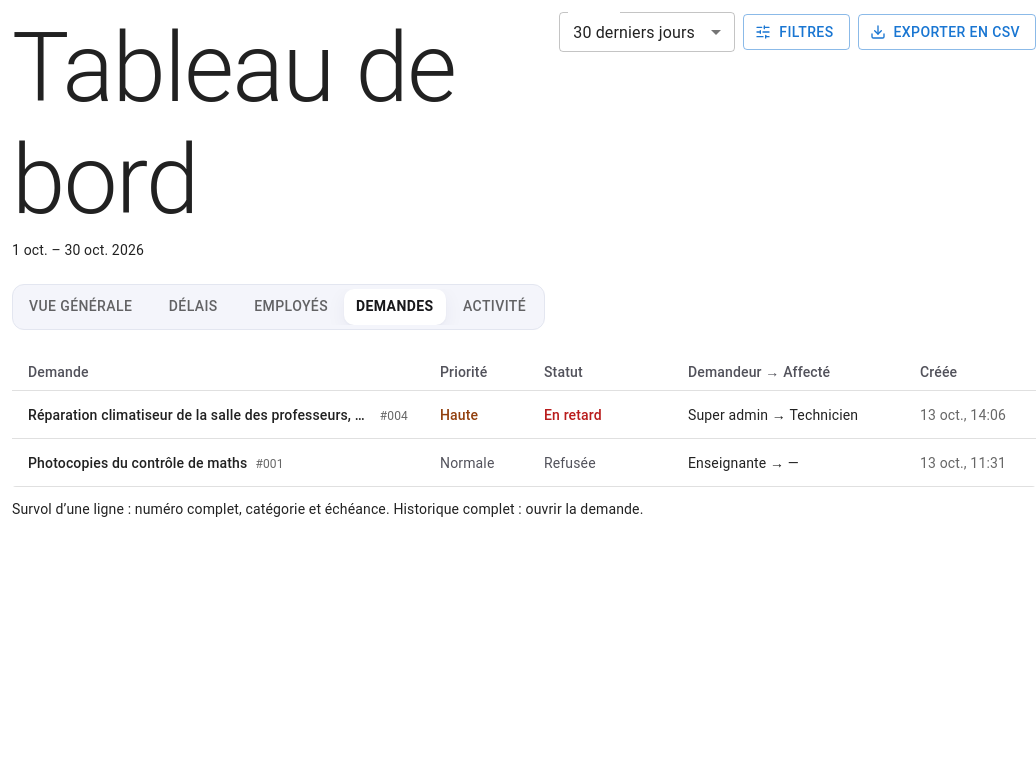
Test case: Paramètres du tableau de bord › vue Demandes : 5 colonnes, numéro court, retard et urgence en rouge, détails au survol
expect the number of column headings is 5: met, box [12,354,424,391]; [424,354,528,391]; [528,354,672,391]; [672,354,904,391]; [904,354,1035,391]
expect the column heading "Demande" is shown: met, box [12,354,424,391]
Note: Survol (ou focus) : numéro complet, catégorie et échéance.
Hover over the link "Réparation climatiseur" at x=200, y=414, box [28,404,372,424]
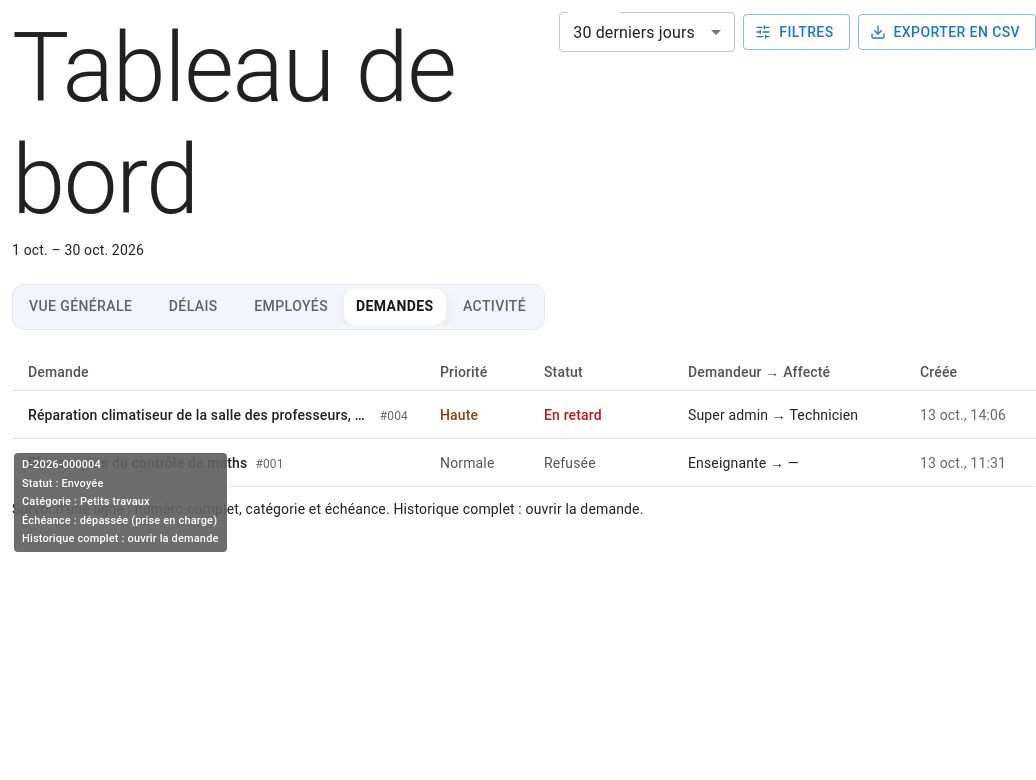
expect the tooltip shows "D-2026-000004": met, box [22,458,101,471]
expect the tooltip shows "Petits travaux": met, box [80,495,150,508]
expect the tooltip shows "Échéance": met, box [22,514,80,526]
